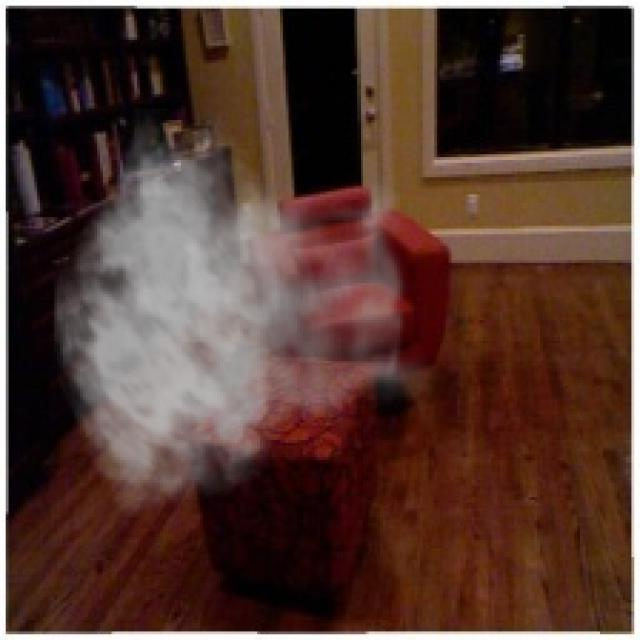Smoke: (51, 109, 440, 518)
